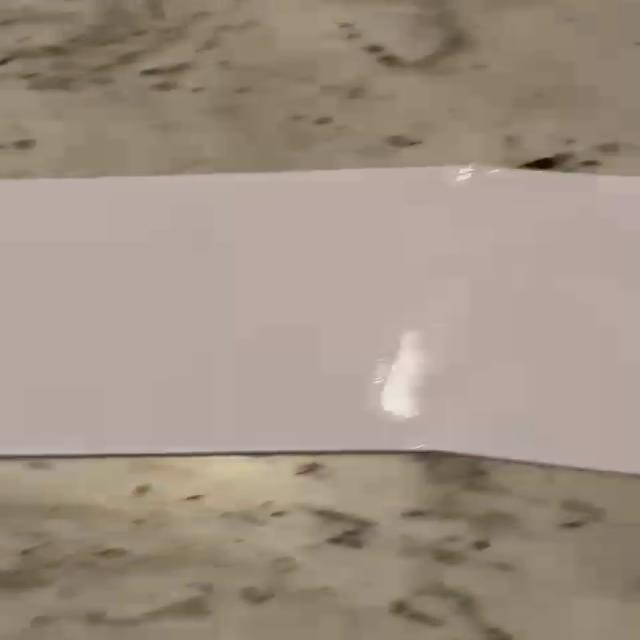road: (3, 165, 638, 473)
